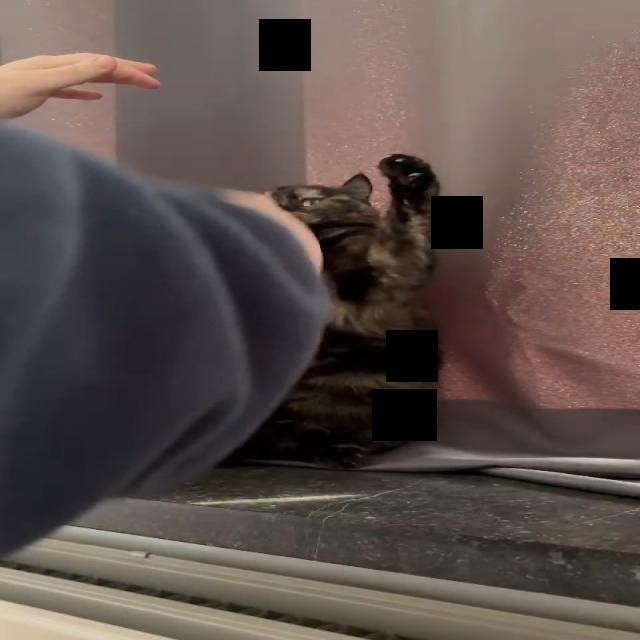authorized: (228, 153, 445, 470)
